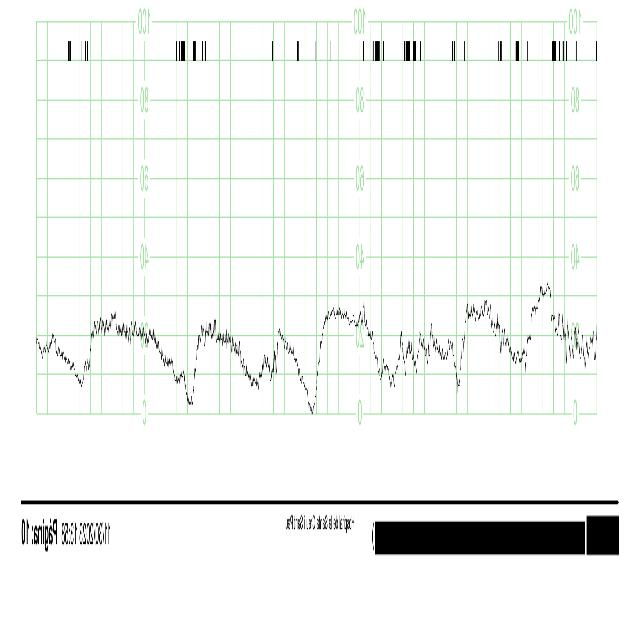contraction: (89, 307, 187, 401), (324, 301, 381, 378), (196, 332, 252, 384), (275, 328, 312, 405), (526, 282, 558, 338), (445, 338, 458, 394)
